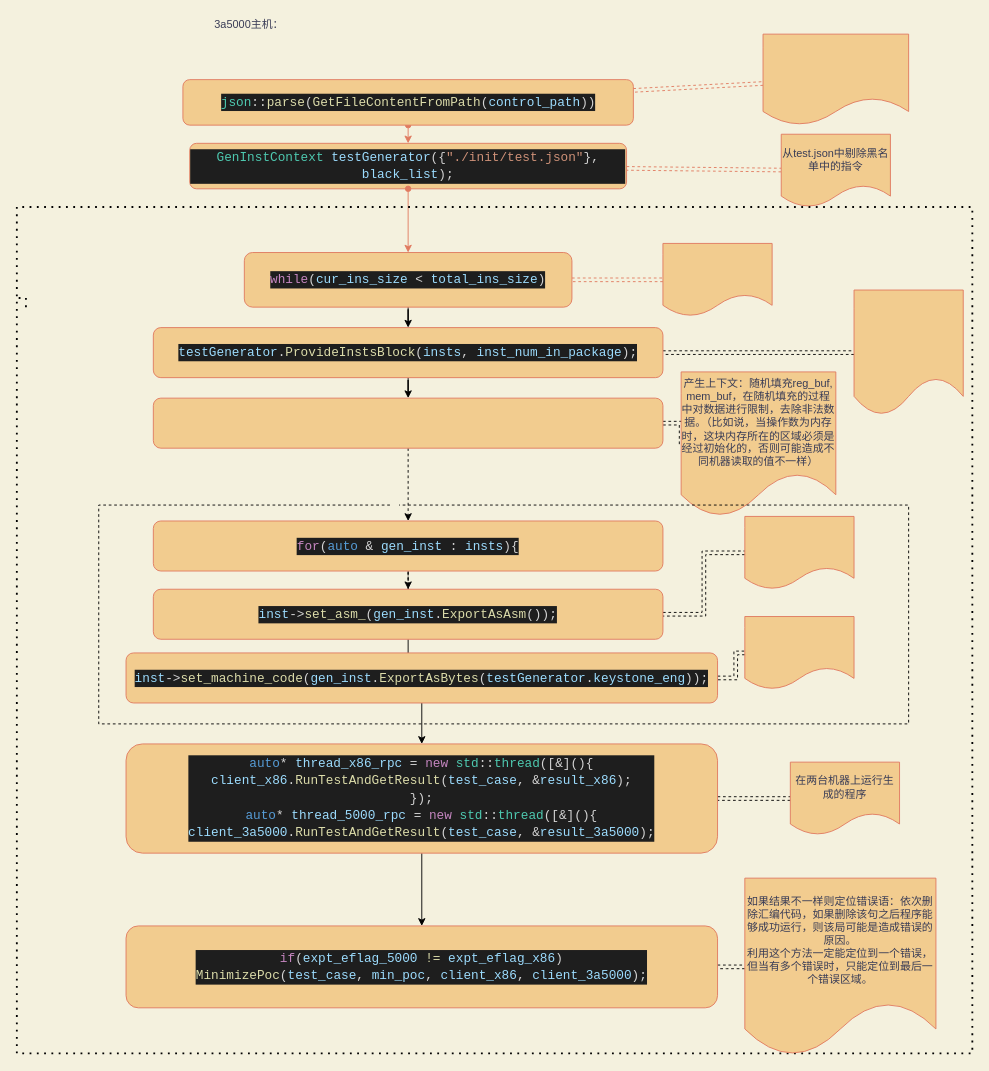
Image size: 989x1071. Some labels were removed from this diagram. Here are the shapes that lost their labels. From the top down, the centre of each, then its label:
At [835,79]: "将控制信息中的内容解析出来，其中包含指令黑名单，测试指令总数，每个批次测试指令的数量范围".
At [717,279]: "分批进行测试".
At [908,352]: "产生指令块：产生一个指令块，该指令块的大小是随机的，指令块中每条指令的操作数类型和操作码都是随机生成的".
At [407,422]: "testGenerator . ProvideContext (* reg_buf , * mem_buf );".
At [799,552]: "产生汇编代码".
At [799,652]: "产生机器码".
